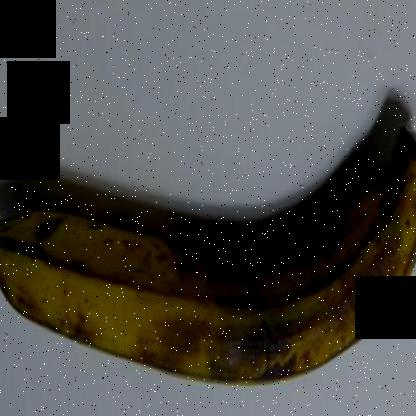overripe: (1, 103, 415, 404)
